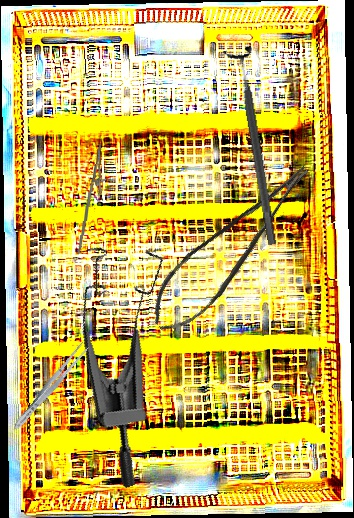Dressing Forceps: (9, 339, 92, 434)
Fixation Ring: (221, 45, 288, 248)
Micro Scissor: (134, 160, 336, 342)
Needle Holder: (77, 143, 110, 256)
Speculum: (40, 226, 233, 490)
